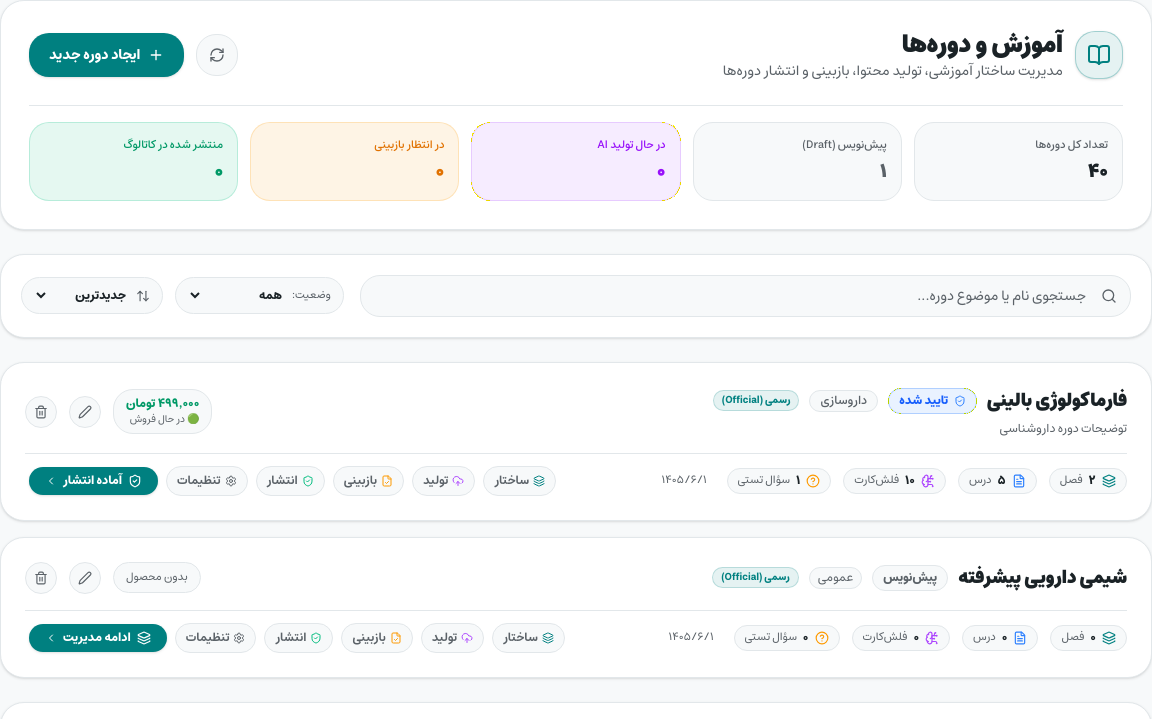
Education Workspace (/admin/courses) — Step 2 Test Matrix › Case 12: Status filter interaction with pagination semantics
Expected: the link "فارماکولوژی بالینی" is shown, left=987, top=386, right=1127, bottom=414
// Select status filter "draft"
Step 1. Select "پیش‌نویس" in the dropdown named "فیلتر وضعیت دوره" → (237, 296), box left=188, top=284, right=286, bottom=307
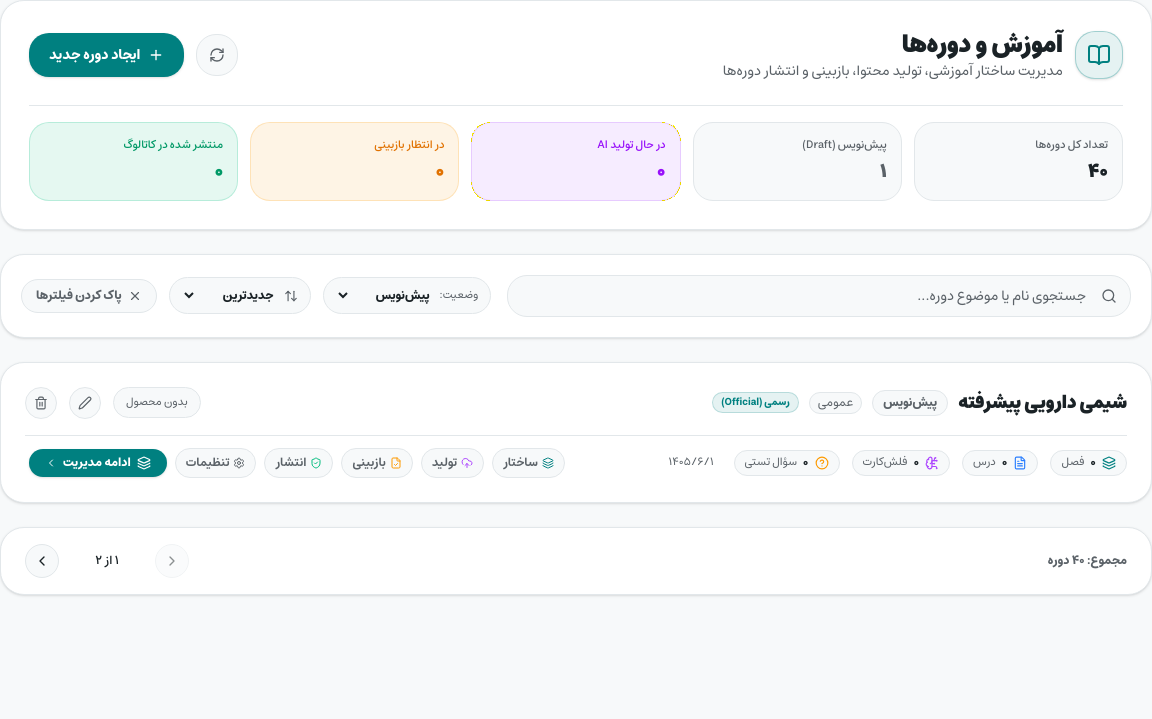
Expected: the link "شیمی دارویی پیشرفته" is shown, left=958, top=388, right=1127, bottom=416
Result: the link "فارماکولوژی بالینی" is gone
